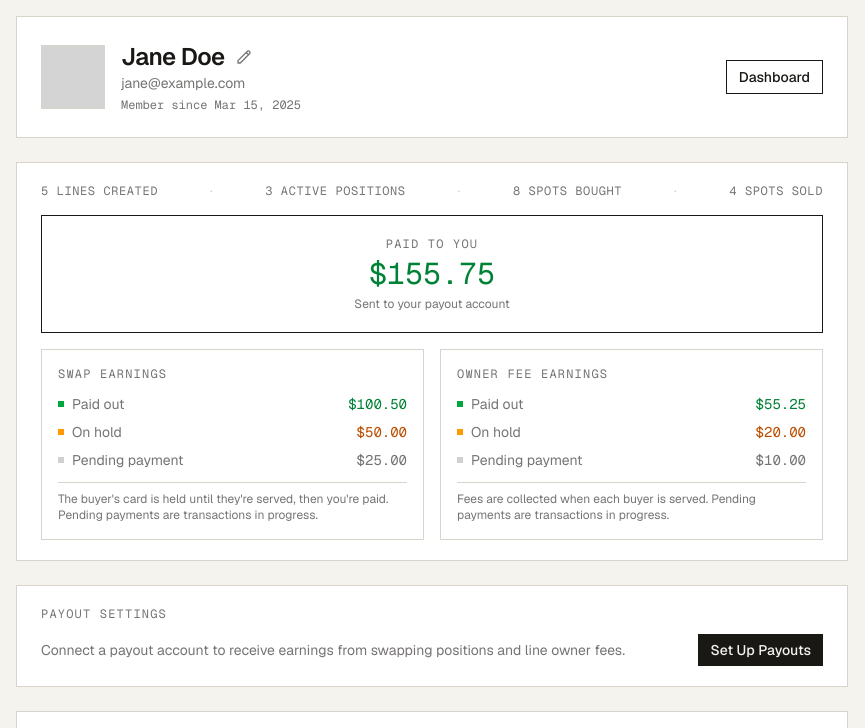
ProfileClient › Profile name editing › shows error when saving empty name
// Enter edit mode
Click the button titled "Edit name" at (244, 57), box x1=232 y1=45 x2=256 y2=69
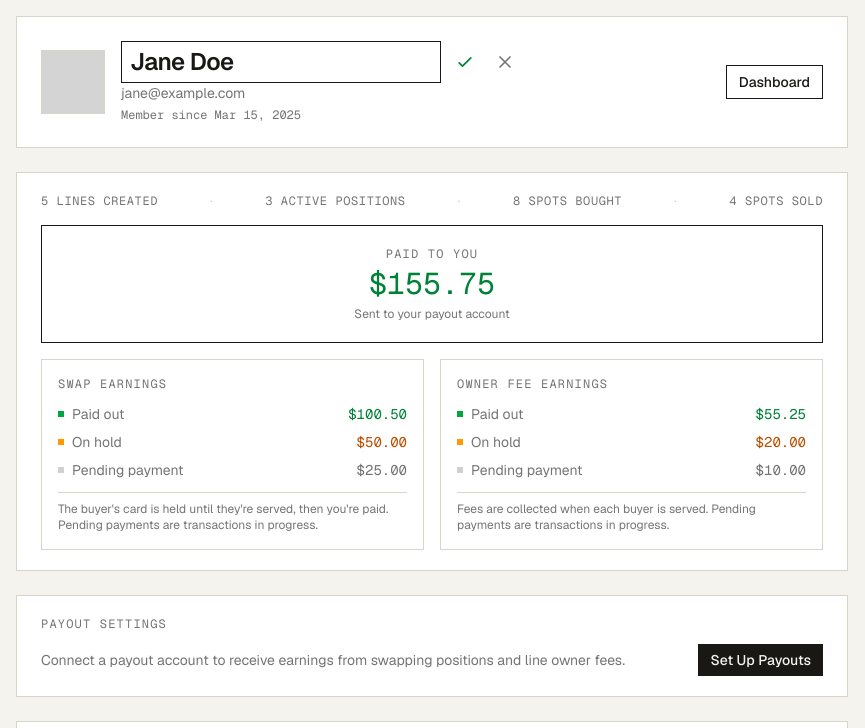
// Clear the name
Clear the field showing "Jane Doe" at (281, 62), box x1=121 y1=41 x2=441 y2=83
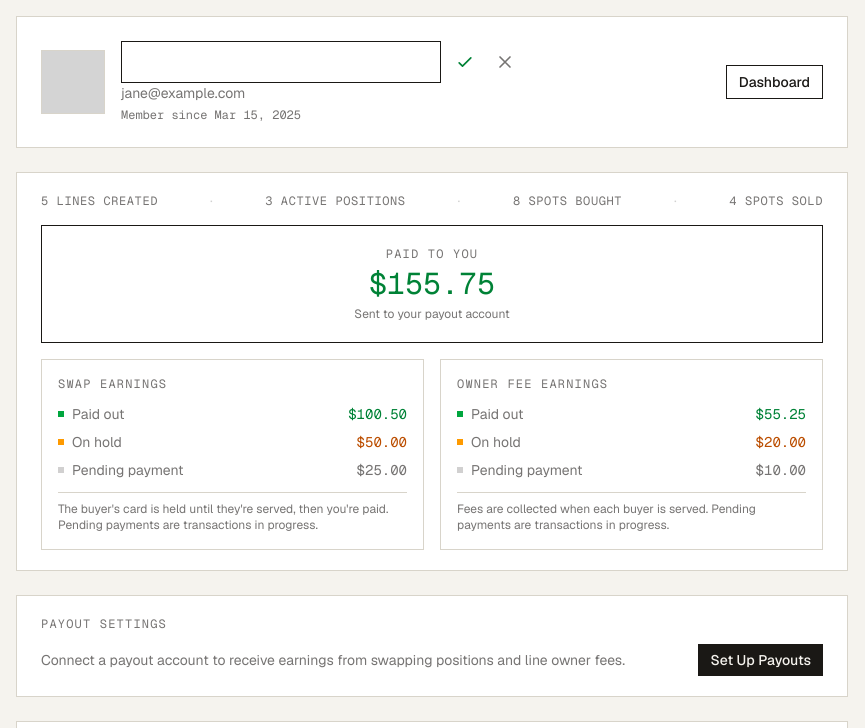
// Click save
Click the button titled "Save" at (465, 62), box x1=449 y1=46 x2=481 y2=78
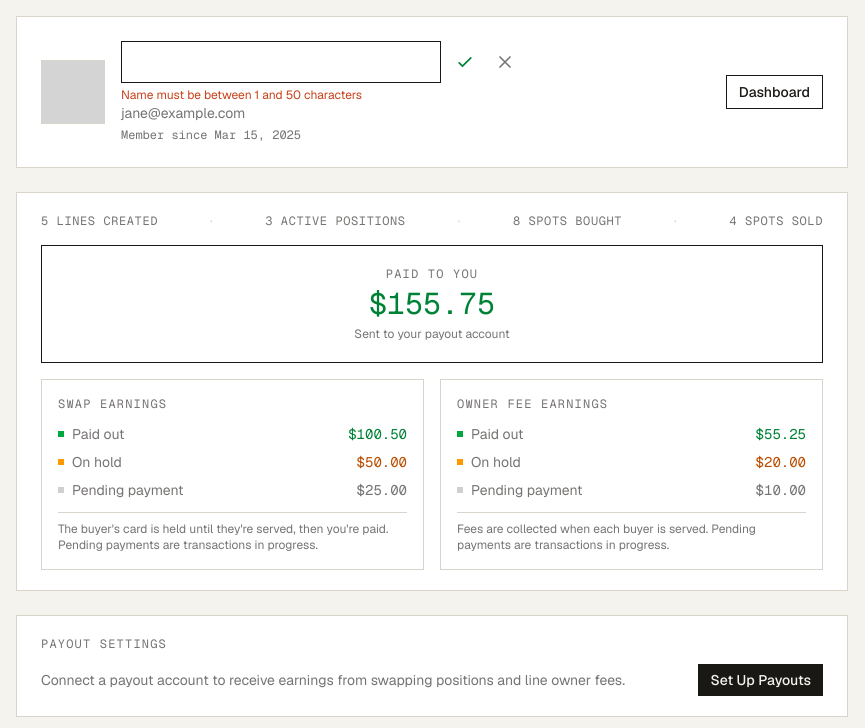
Expected: the text "Name must be between 1 and 50 characters" is shown, x1=121 y1=87 x2=362 y2=103
